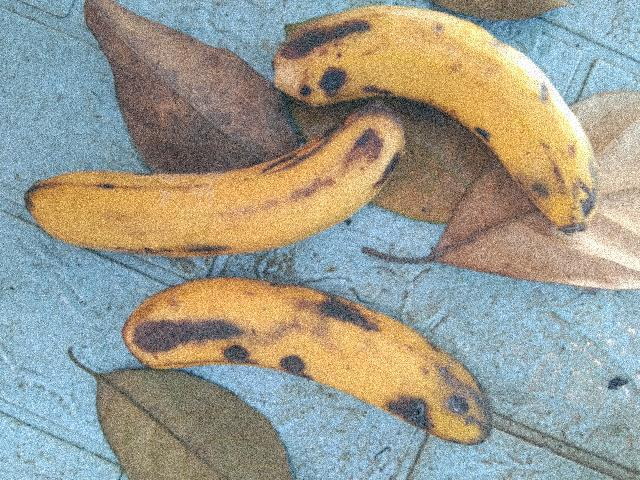overripe: (119, 253, 518, 466), (263, 2, 603, 234)
ripe: (3, 90, 409, 274)
